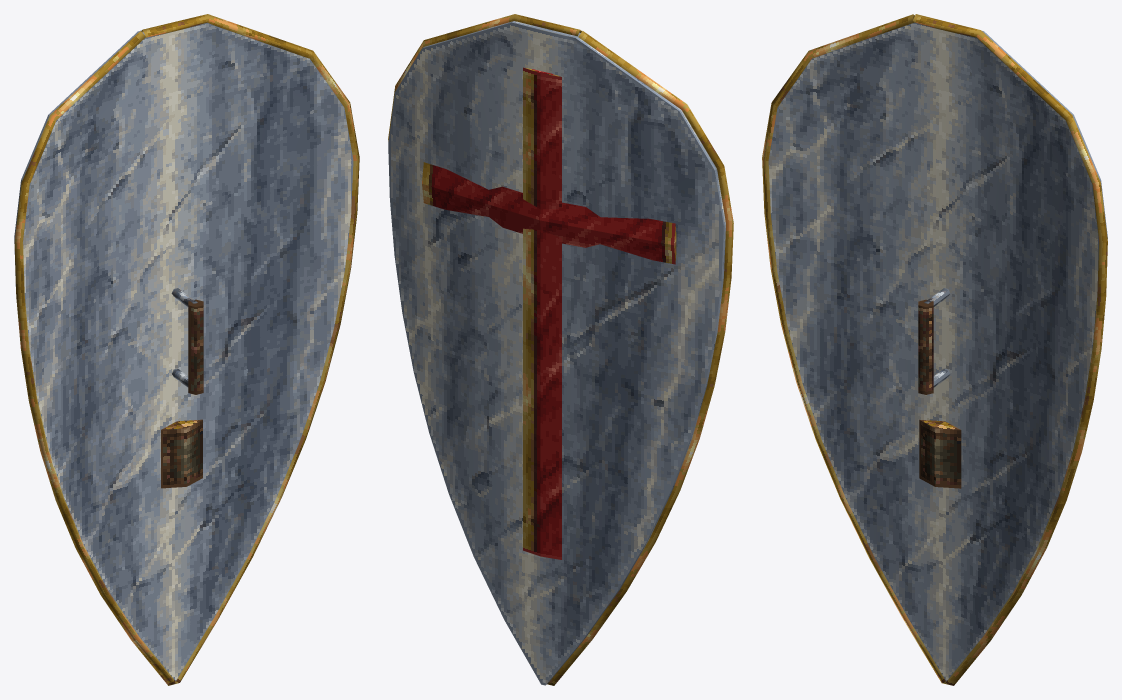
File: templar_kite.glb
3 renders of one model, left to right at view 1: azimuth 30°, elevation 25°; view 2: azimuth 150°, elevation 25°; view 3: azimuth 330°, elevation 25°, orthographic.
Visible parts, largest first — view 1: templar_kite; view 2: templar_kite; view 3: templar_kite.
Boxes of the visible parts, x1,y1,x2,y2 form: templar_kite: (14, 14, 359, 685); templar_kite: (388, 14, 733, 685); templar_kite: (762, 14, 1107, 685).
Bounding box in the file's own units: 0.4939 × 0.9053 × 0.0835.
Materials: 1 (1 with a texture image).
